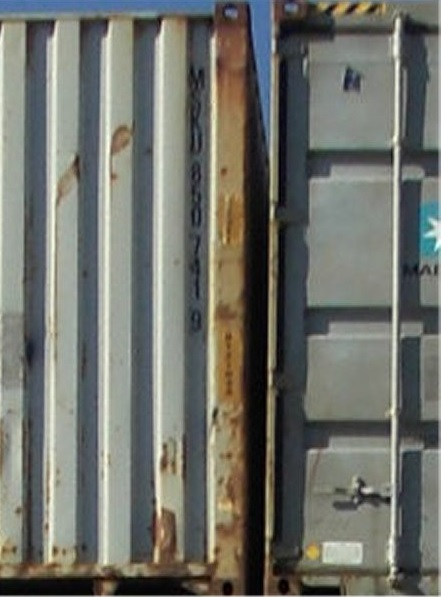container_door: (269, 1, 437, 596)
container_no_door: (1, 7, 251, 592)
